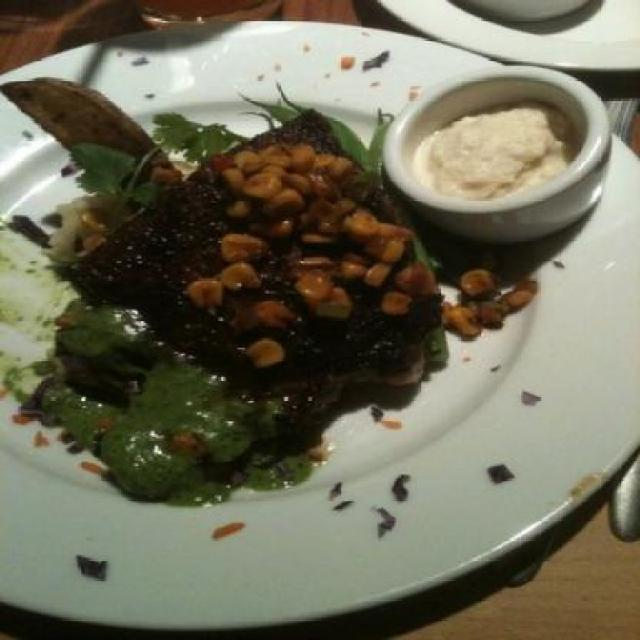Steak: (38, 116, 414, 493)
